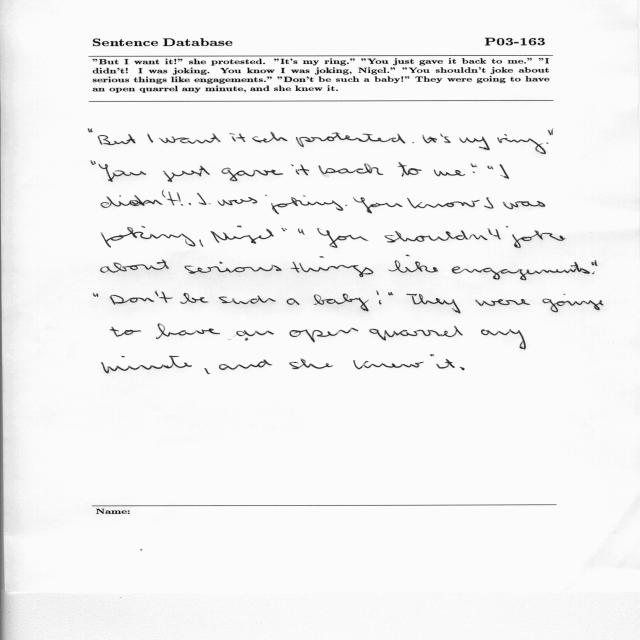word: (452, 262, 590, 280), (102, 226, 196, 248), (156, 324, 274, 341), (102, 356, 210, 374), (384, 228, 501, 243), (291, 256, 374, 277), (296, 132, 405, 147), (265, 195, 343, 214), (101, 190, 183, 208), (369, 326, 463, 340), (506, 226, 565, 248), (184, 261, 282, 274), (210, 226, 274, 244), (543, 294, 604, 312), (407, 294, 461, 314), (317, 228, 368, 248), (314, 294, 369, 312), (497, 134, 546, 154), (100, 259, 169, 273), (289, 328, 358, 342), (389, 255, 439, 273), (481, 329, 526, 349), (110, 291, 173, 305), (99, 164, 146, 182), (354, 197, 403, 214), (88, 128, 136, 145), (221, 168, 283, 181), (163, 166, 210, 182), (407, 198, 480, 208), (319, 164, 384, 175), (159, 133, 221, 144), (353, 360, 424, 369), (219, 359, 272, 370), (219, 296, 276, 304), (289, 359, 333, 369), (459, 137, 490, 150), (252, 132, 288, 143), (475, 299, 530, 306), (398, 162, 422, 177), (218, 197, 257, 206), (430, 355, 455, 369), (503, 201, 545, 209), (110, 327, 141, 337), (181, 293, 209, 304), (292, 165, 310, 176), (434, 170, 465, 176), (500, 164, 509, 179), (197, 193, 207, 205), (440, 134, 451, 143), (484, 198, 493, 209), (423, 137, 437, 144), (287, 298, 300, 305), (236, 133, 246, 142), (376, 291, 381, 304), (229, 133, 236, 141), (298, 228, 305, 235), (148, 134, 153, 143), (592, 260, 598, 266), (199, 239, 203, 247), (548, 129, 553, 135), (91, 160, 96, 165), (471, 164, 477, 168), (488, 166, 494, 170), (94, 293, 99, 297), (460, 367, 465, 371), (388, 292, 393, 295), (282, 228, 286, 231), (592, 271, 595, 274), (547, 142, 549, 144), (473, 171, 475, 173), (189, 203, 191, 205), (285, 228, 287, 230), (412, 142, 414, 143), (423, 134, 424, 136), (345, 205, 347, 206)
